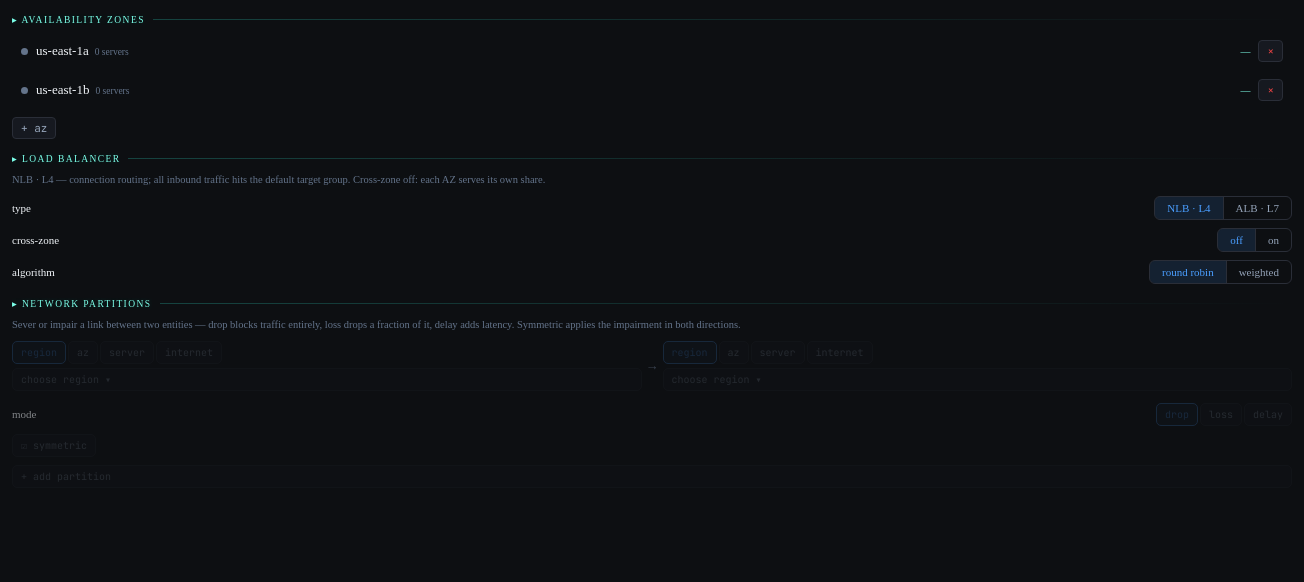
Test: RegionConfigTab › hides per-AZ weight inputs under round-robin, shows them under weighted
Click the button "weighted".
click(1259, 272)  # box [1227, 261, 1291, 283]
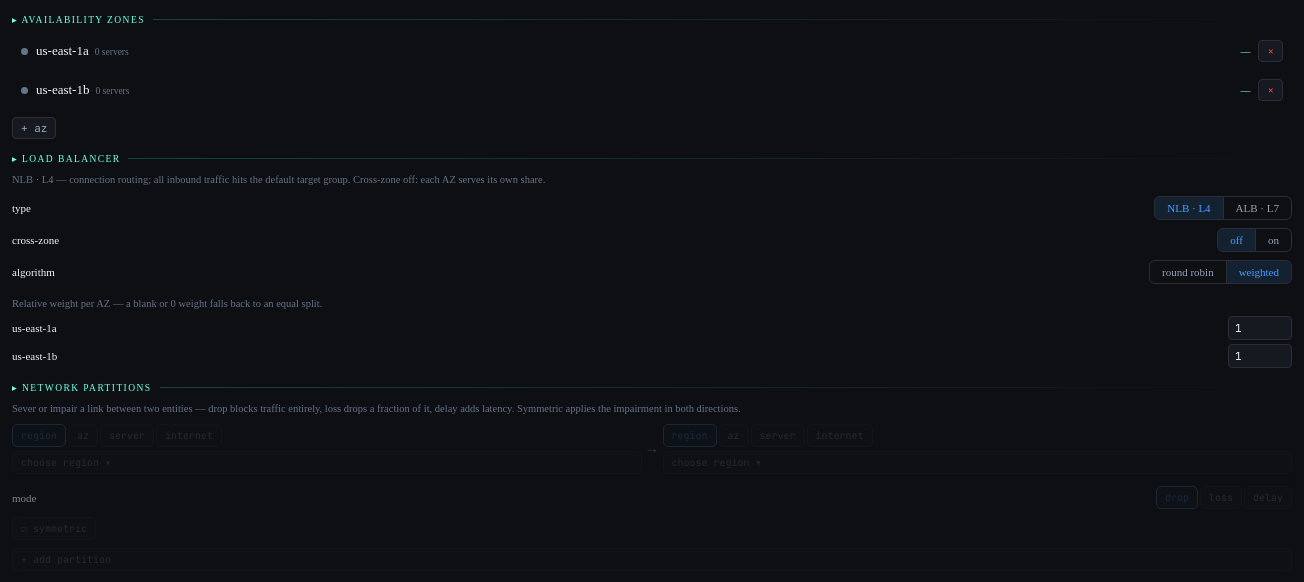
Now the number of number fields named "az-weight-" is 2, box [1228, 316, 1292, 340]; [1228, 344, 1292, 368]
